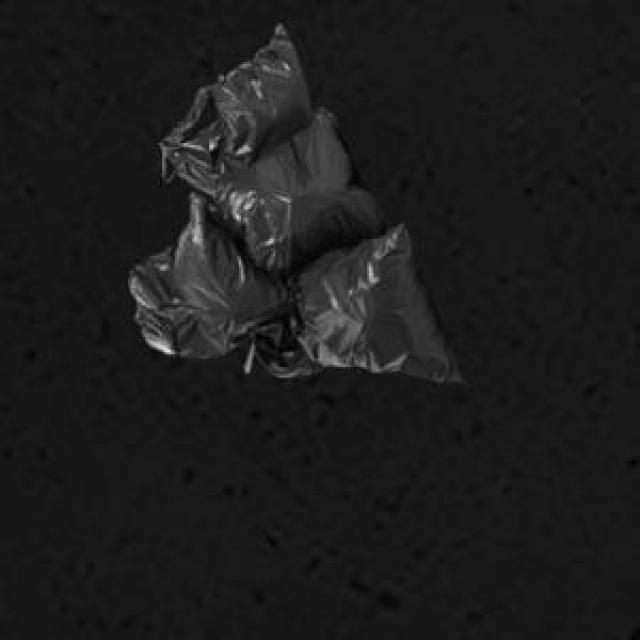miscellaneous trash: (126, 21, 460, 378)
